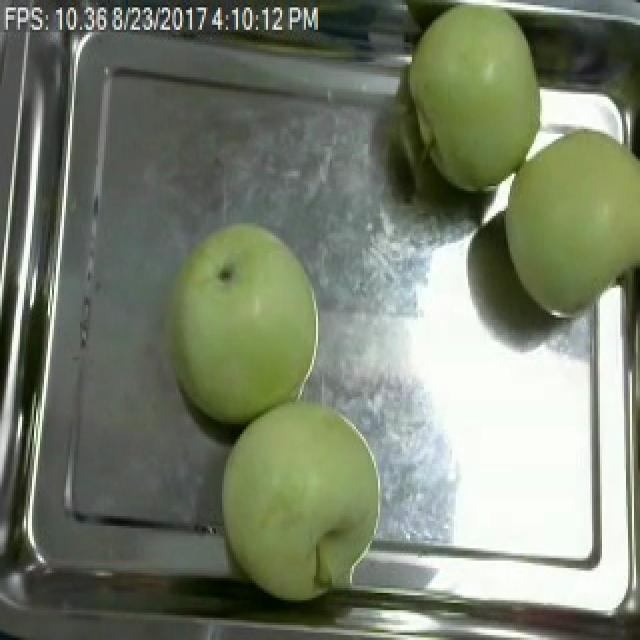50-_ripeness: (217, 394, 382, 612), (166, 222, 330, 424), (508, 126, 640, 318), (411, 6, 543, 189)
